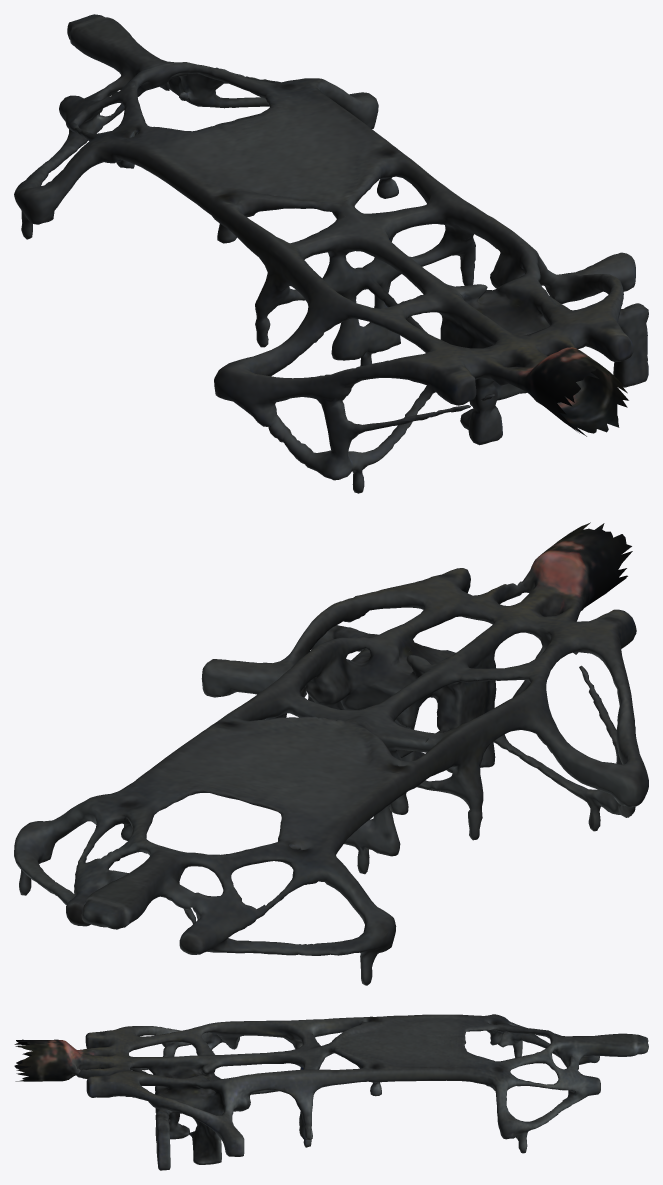
File: MeshEdited.obj
The picture shows the model from 3 angles, top to bottom: view 1: azimuth 30°, elevation 25°; view 2: azimuth 150°, elevation 25°; view 3: azimuth 270°, elevation 25°; orthographic projection. The views are drawn at different scales.
Visible parts, largest first — view 1: Mesh; view 2: Mesh; view 3: Mesh.
Boxes of the visible parts, <box> form: Mesh: <box>14,14,648,493</box>; Mesh: <box>14,522,648,985</box>; Mesh: <box>14,1014,648,1170</box>.
Bounding box in the file's own units: 85.45 × 34.63 × 178.
